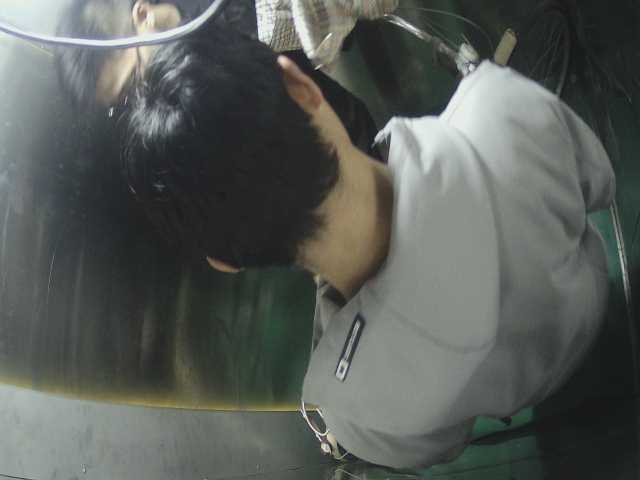bicycle: (363, 10, 583, 110)
person: (126, 55, 614, 465)
